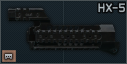MP5 CAA HX-5 handguard: (0, 0, 127, 64)
